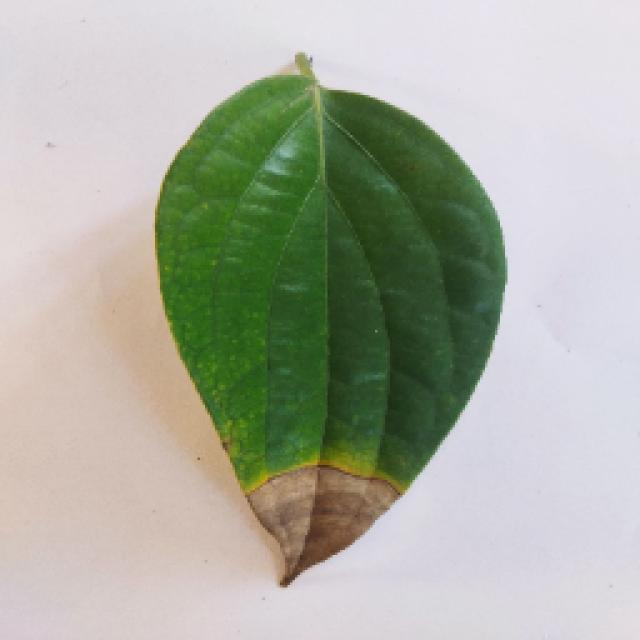footrot: (150, 60, 510, 588)
